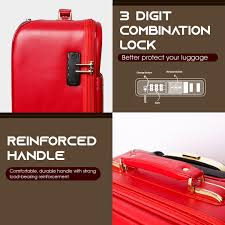suitcase: (11, 9, 104, 114), (111, 149, 225, 225)
